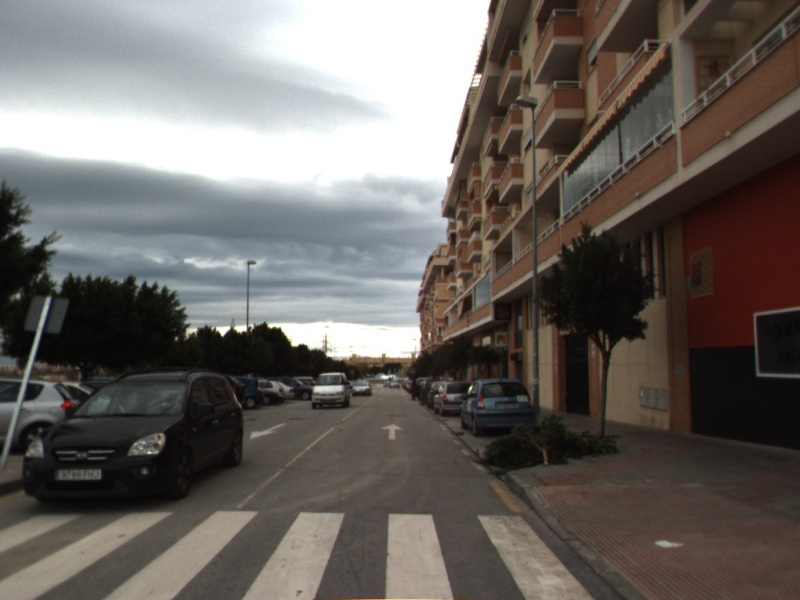STRAIGHT: (379, 422, 405, 442)
